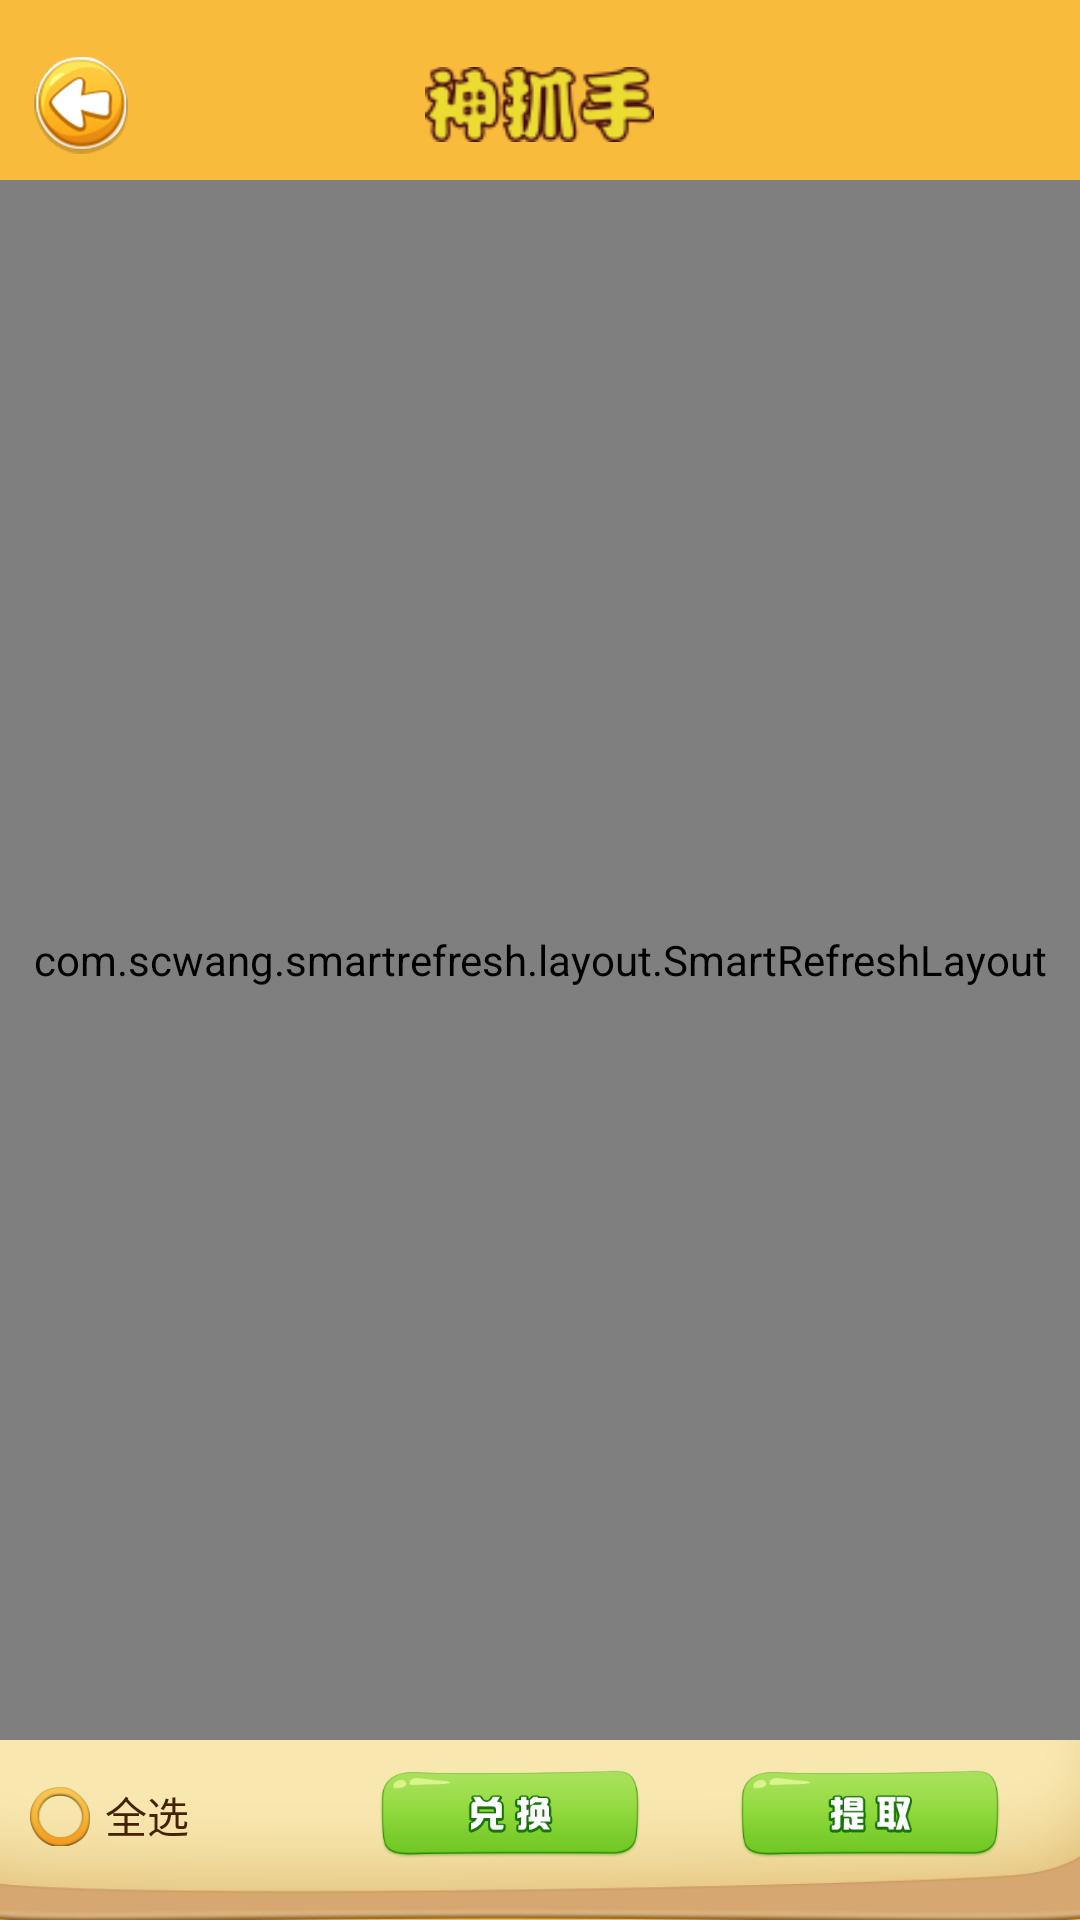

Locate icon controls on the screen. Image size 1080x1920, boxes as detection(x1, y1, x2, y2).
check pay way: detection(30, 1787, 90, 1846)
player back: detection(34, 57, 128, 154)
